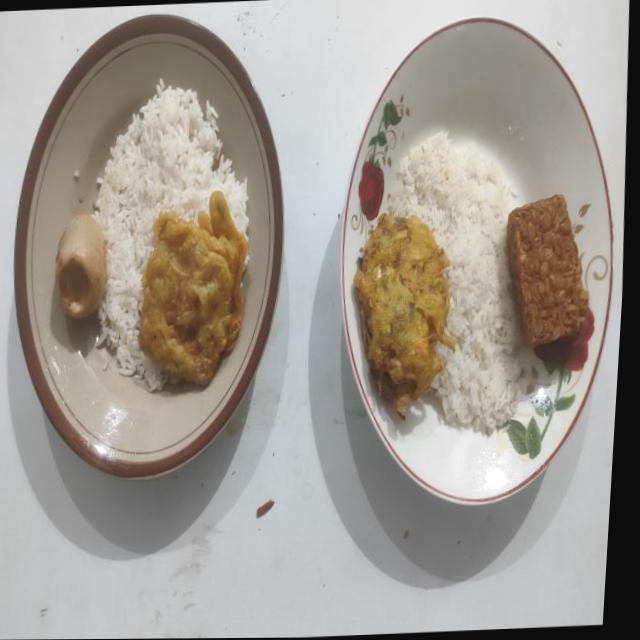nasi_putih: (92, 78, 248, 390), (388, 132, 520, 432)
tempe_goreng: (506, 194, 588, 347)
